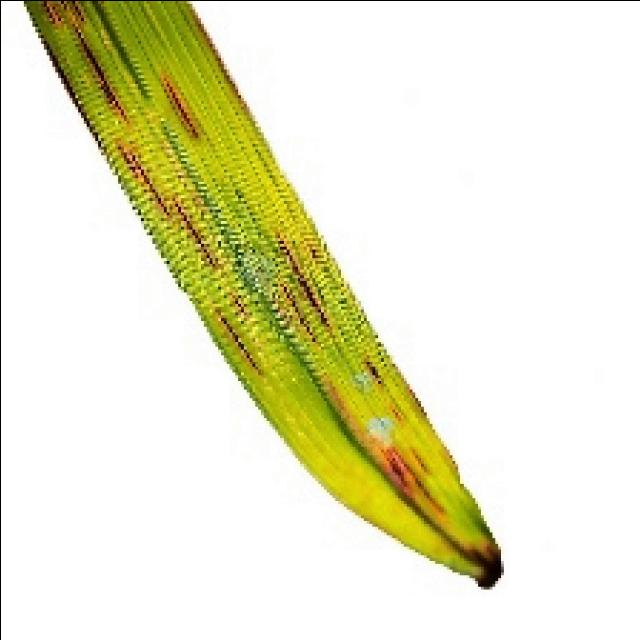Unhealthy: (26, 6, 103, 149), (368, 441, 448, 513), (274, 231, 329, 327), (74, 27, 128, 120), (114, 141, 171, 220), (193, 11, 241, 98), (171, 197, 217, 270), (214, 312, 260, 373), (160, 74, 203, 138), (279, 281, 316, 343), (468, 541, 500, 586), (56, 0, 86, 25), (40, 0, 63, 25), (410, 446, 430, 474), (363, 356, 382, 385), (230, 294, 251, 318), (408, 388, 426, 415)
